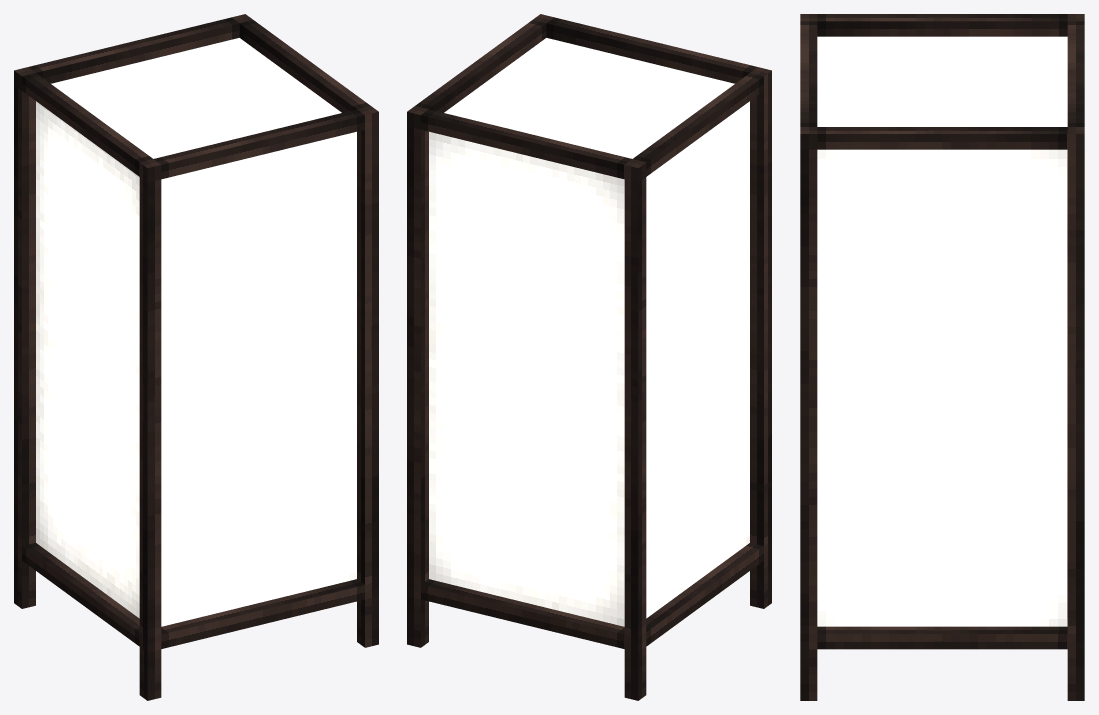
File: andon.glb
The picture shows the model from 3 angles, left to right: view 1: azimuth 30°, elevation 25°; view 2: azimuth 150°, elevation 25°; view 3: azimuth 270°, elevation 25°; orthographic projection. The views are drawn at different scales.
Parts seen in each view (by area): view 1: andon; view 2: andon; view 3: andon.
Boxes of the visible parts, x1,y1,x2,y2 form: andon: (14, 14, 378, 700); andon: (407, 14, 771, 700); andon: (800, 14, 1084, 700).
Bounding box in the file's own units: 0.5 × 1.1 × 0.5.
2 materials, 1 textured.
